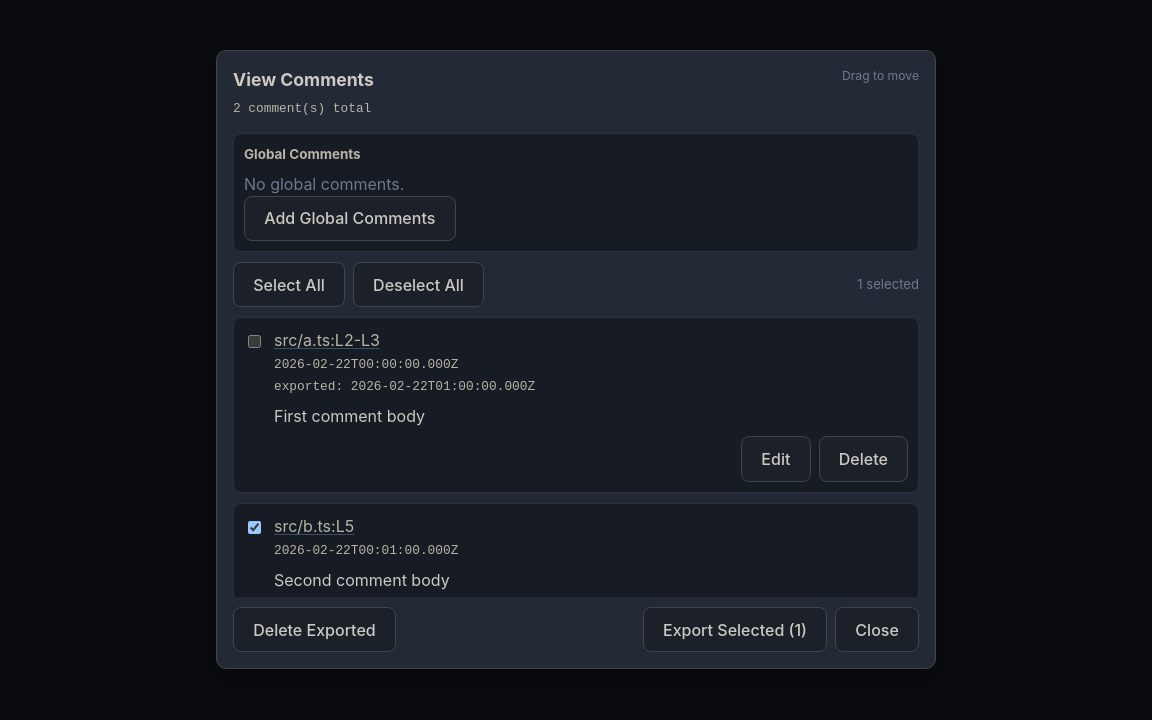
Test: CommentListModal › toggling a checkbox updates selection count
The width and height of the screenshot is (1152, 720).
expect the text with test id "comment-list-selection-count" reads "1 selected": met, box x1=857 y1=275 x2=919 y2=295
Check the exported a-comment
Click the checkbox named "Select comment from src/a.ts:L2-L3" at [254, 342], box x1=248 y1=336 x2=261 y2=348
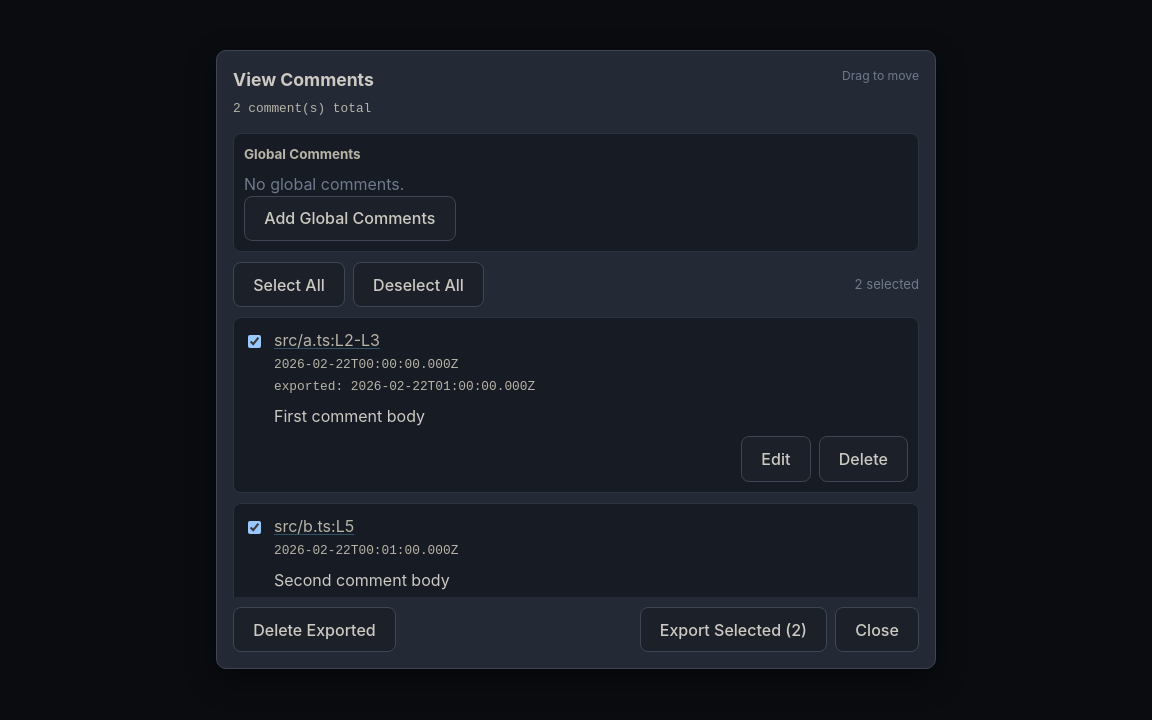
expect the text with test id "comment-list-selection-count" reads "2 selected": met, box x1=855 y1=275 x2=919 y2=295
Uncheck b-comment
Click the checkbox named "Select comment from src/b.ts:L5" at [254, 528], box x1=248 y1=521 x2=261 y2=534
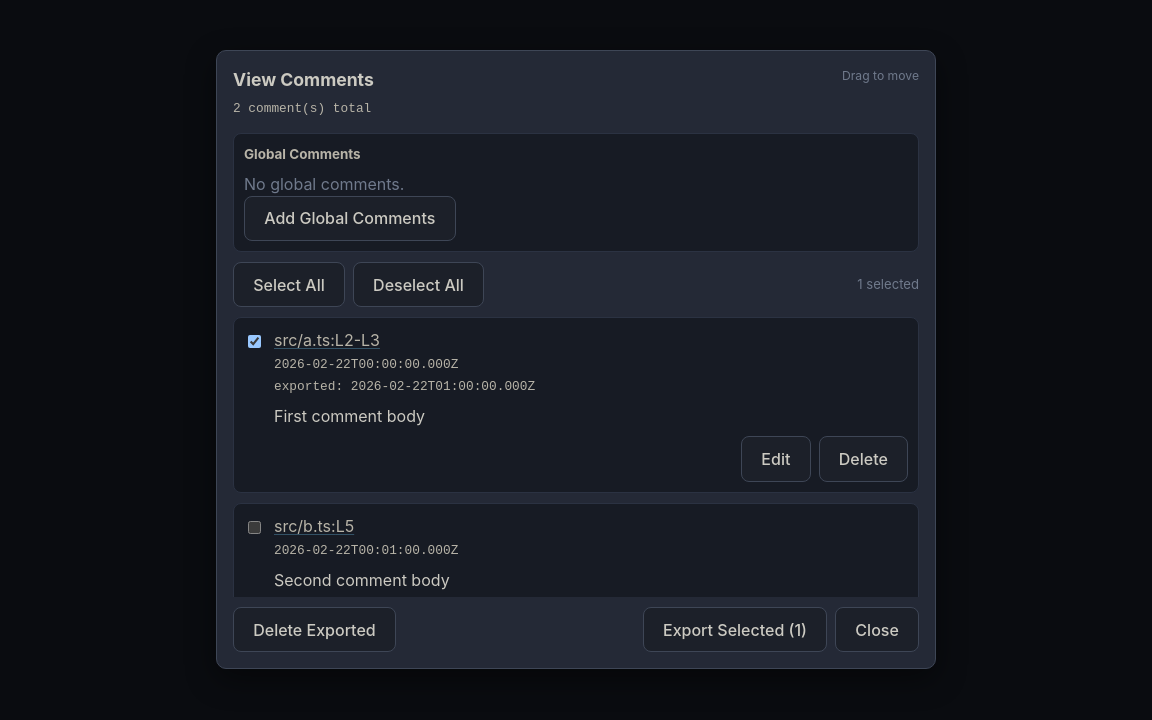
expect the text with test id "comment-list-selection-count" reads "1 selected": met, box x1=857 y1=275 x2=919 y2=295
